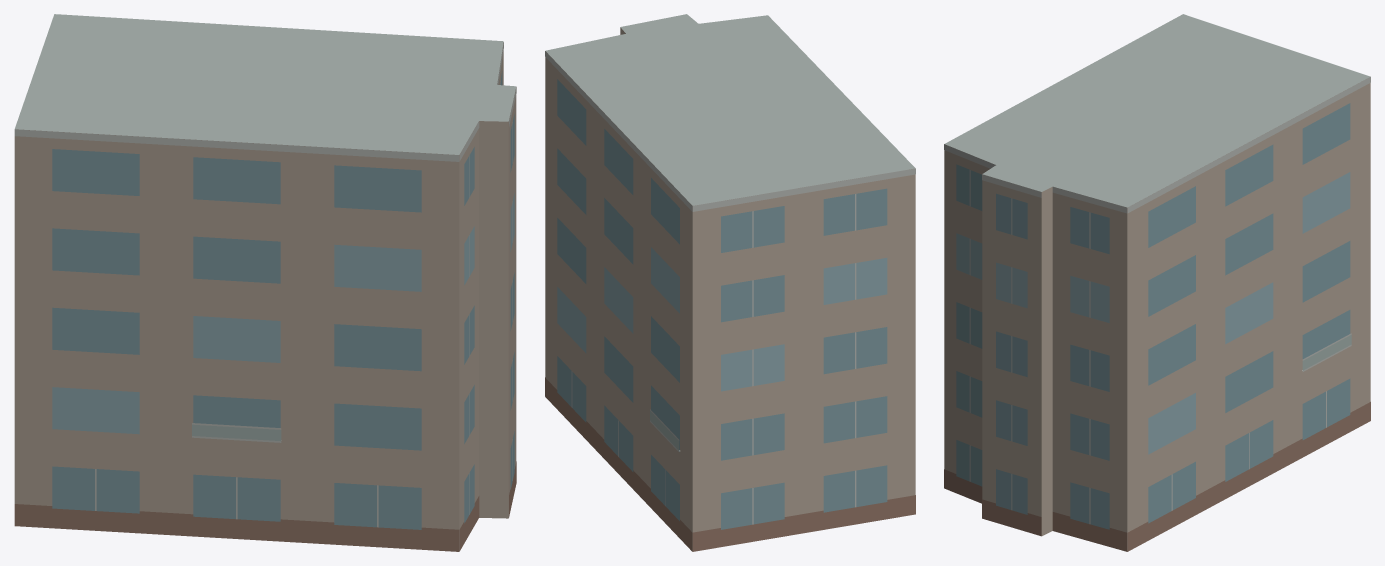
The model's file is survey-upis-32578551.glb.
The picture shows the model from 3 angles, left to right: view 1: azimuth 30°, elevation 25°; view 2: azimuth 150°, elevation 25°; view 3: azimuth 270°, elevation 25°; orthographic projection. The views are drawn at different scales.
Parts seen in each view (by area): view 1: survey-upis-32578551.tmp; view 2: survey-upis-32578551.tmp; view 3: survey-upis-32578551.tmp.
Part boxes in pixels (left/top/right/bottom): survey-upis-32578551.tmp: left=14, top=14, right=516, bottom=551; survey-upis-32578551.tmp: left=545, top=14, right=915, bottom=551; survey-upis-32578551.tmp: left=944, top=14, right=1370, bottom=551.
Bounding box in the file's own units: 16.83 × 13.95 × 15.67.
